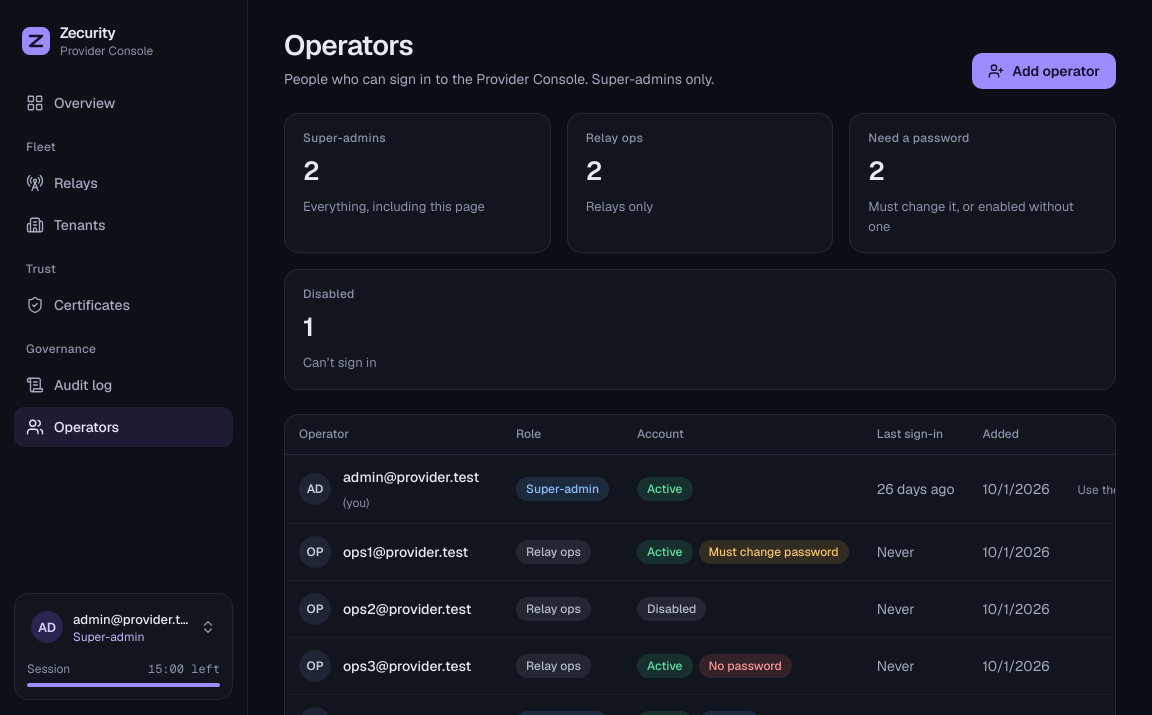
Test case: Provider users: add operator › exists_disabled shows a readable message and keeps the dialog open
This screenshot has width=1152, height=715.
Click the button "Add operator" at (1044,71), box x1=972 y1=53 x2=1116 y2=89
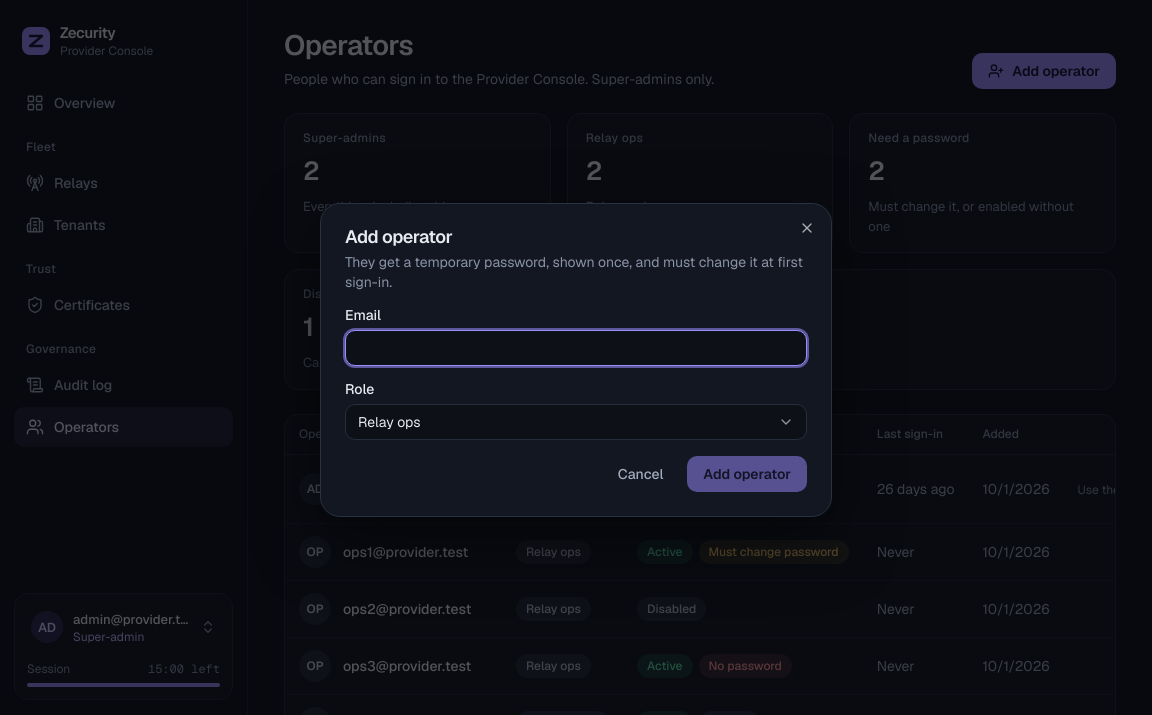
Type "ops2@provider.test" into the field labelled "Email" at (576,348), box x1=345 y1=330 x2=807 y2=366
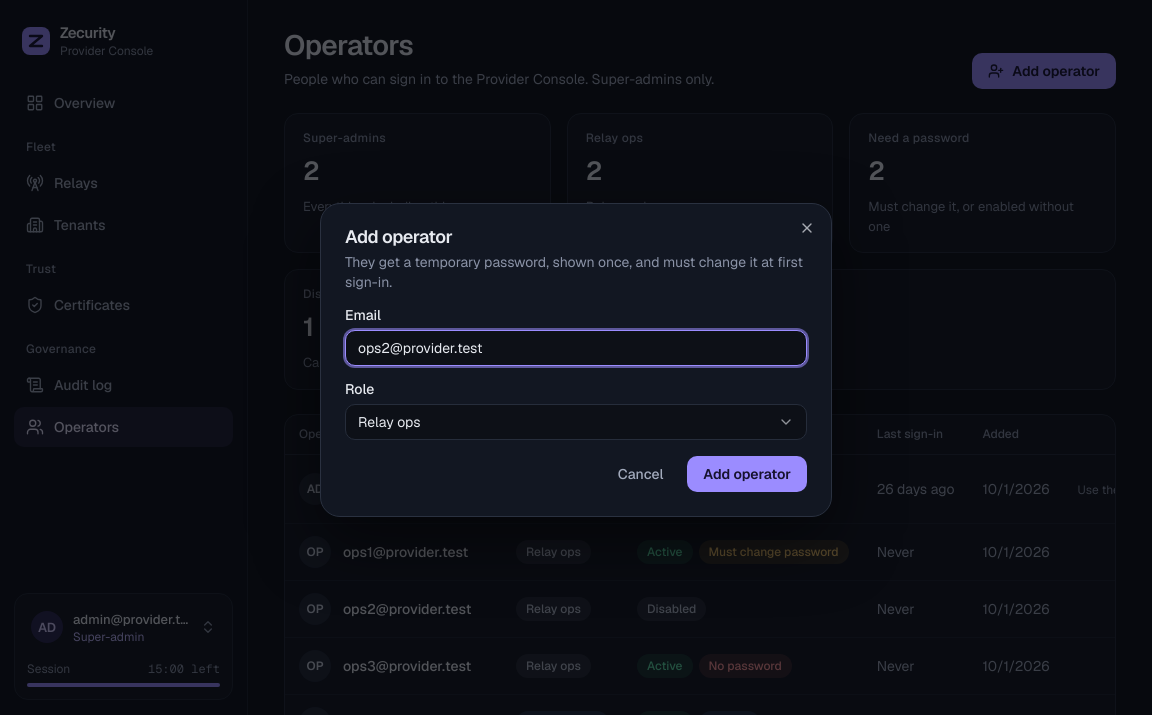
Click the button "Add operator" at (747,474), box x1=687 y1=456 x2=807 y2=492
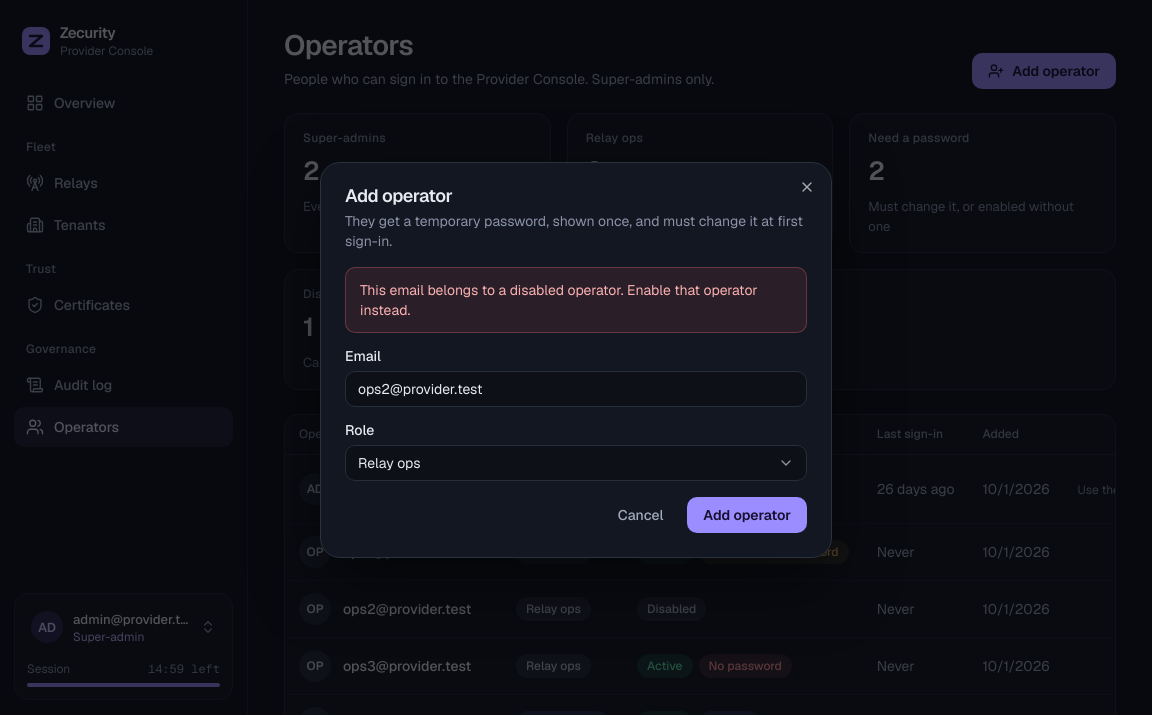
Check: the text "This email belongs to a disabled operator. Enable that operator instead." is shown, box x1=360 y1=280 x2=792 y2=320
